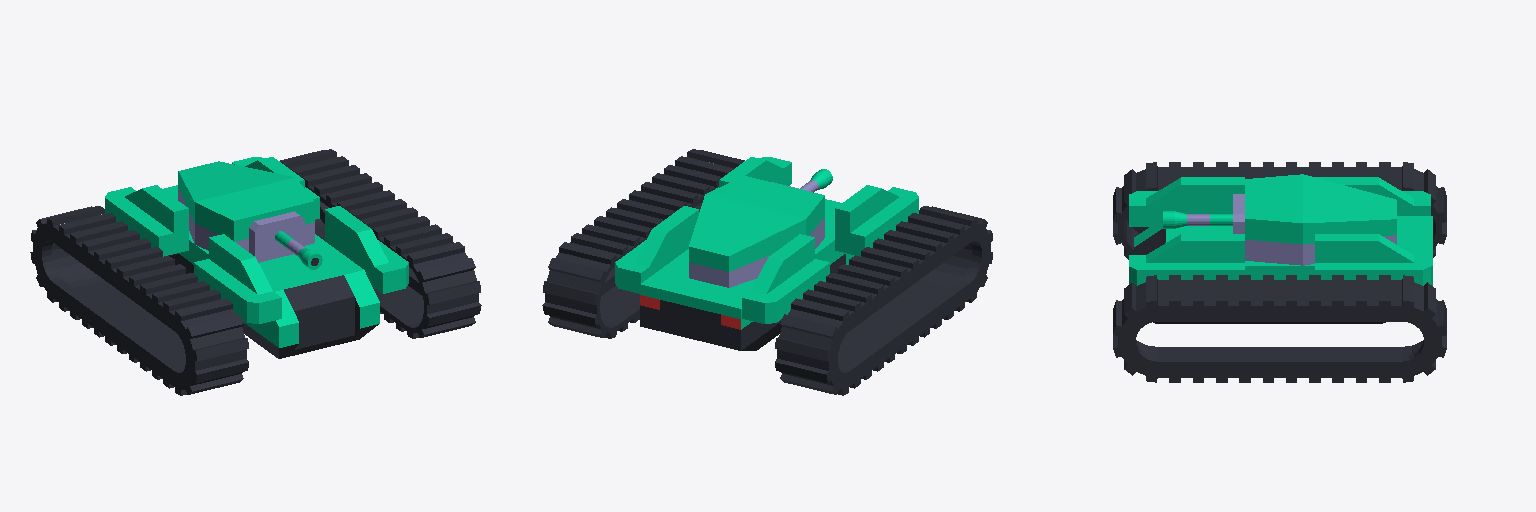
3 views of the same model, side by side, from view 1: azimuth 30°, elevation 25°; view 2: azimuth 150°, elevation 25°; view 3: azimuth 270°, elevation 25° (orthographic).
Visible parts, largest first — view 1: mergedBlocks; view 2: mergedBlocks; view 3: mergedBlocks.
Boxes of the visible parts, <box> form: mergedBlocks: <box>30,149,481,395</box>; mergedBlocks: <box>542,149,992,395</box>; mergedBlocks: <box>1113,162,1446,382</box>.
Bounding box in the file's own units: 2.82 × 1.09 × 2.87.
Materials: 1 (1 with a texture image).